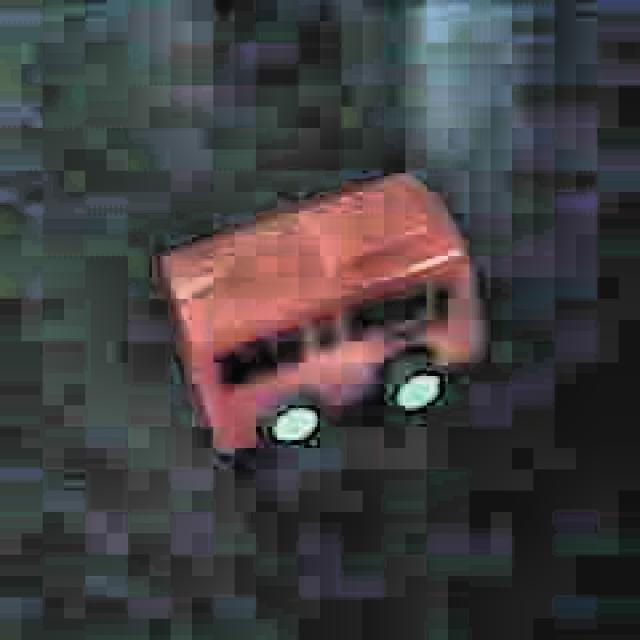bus: (146, 156, 497, 482)
